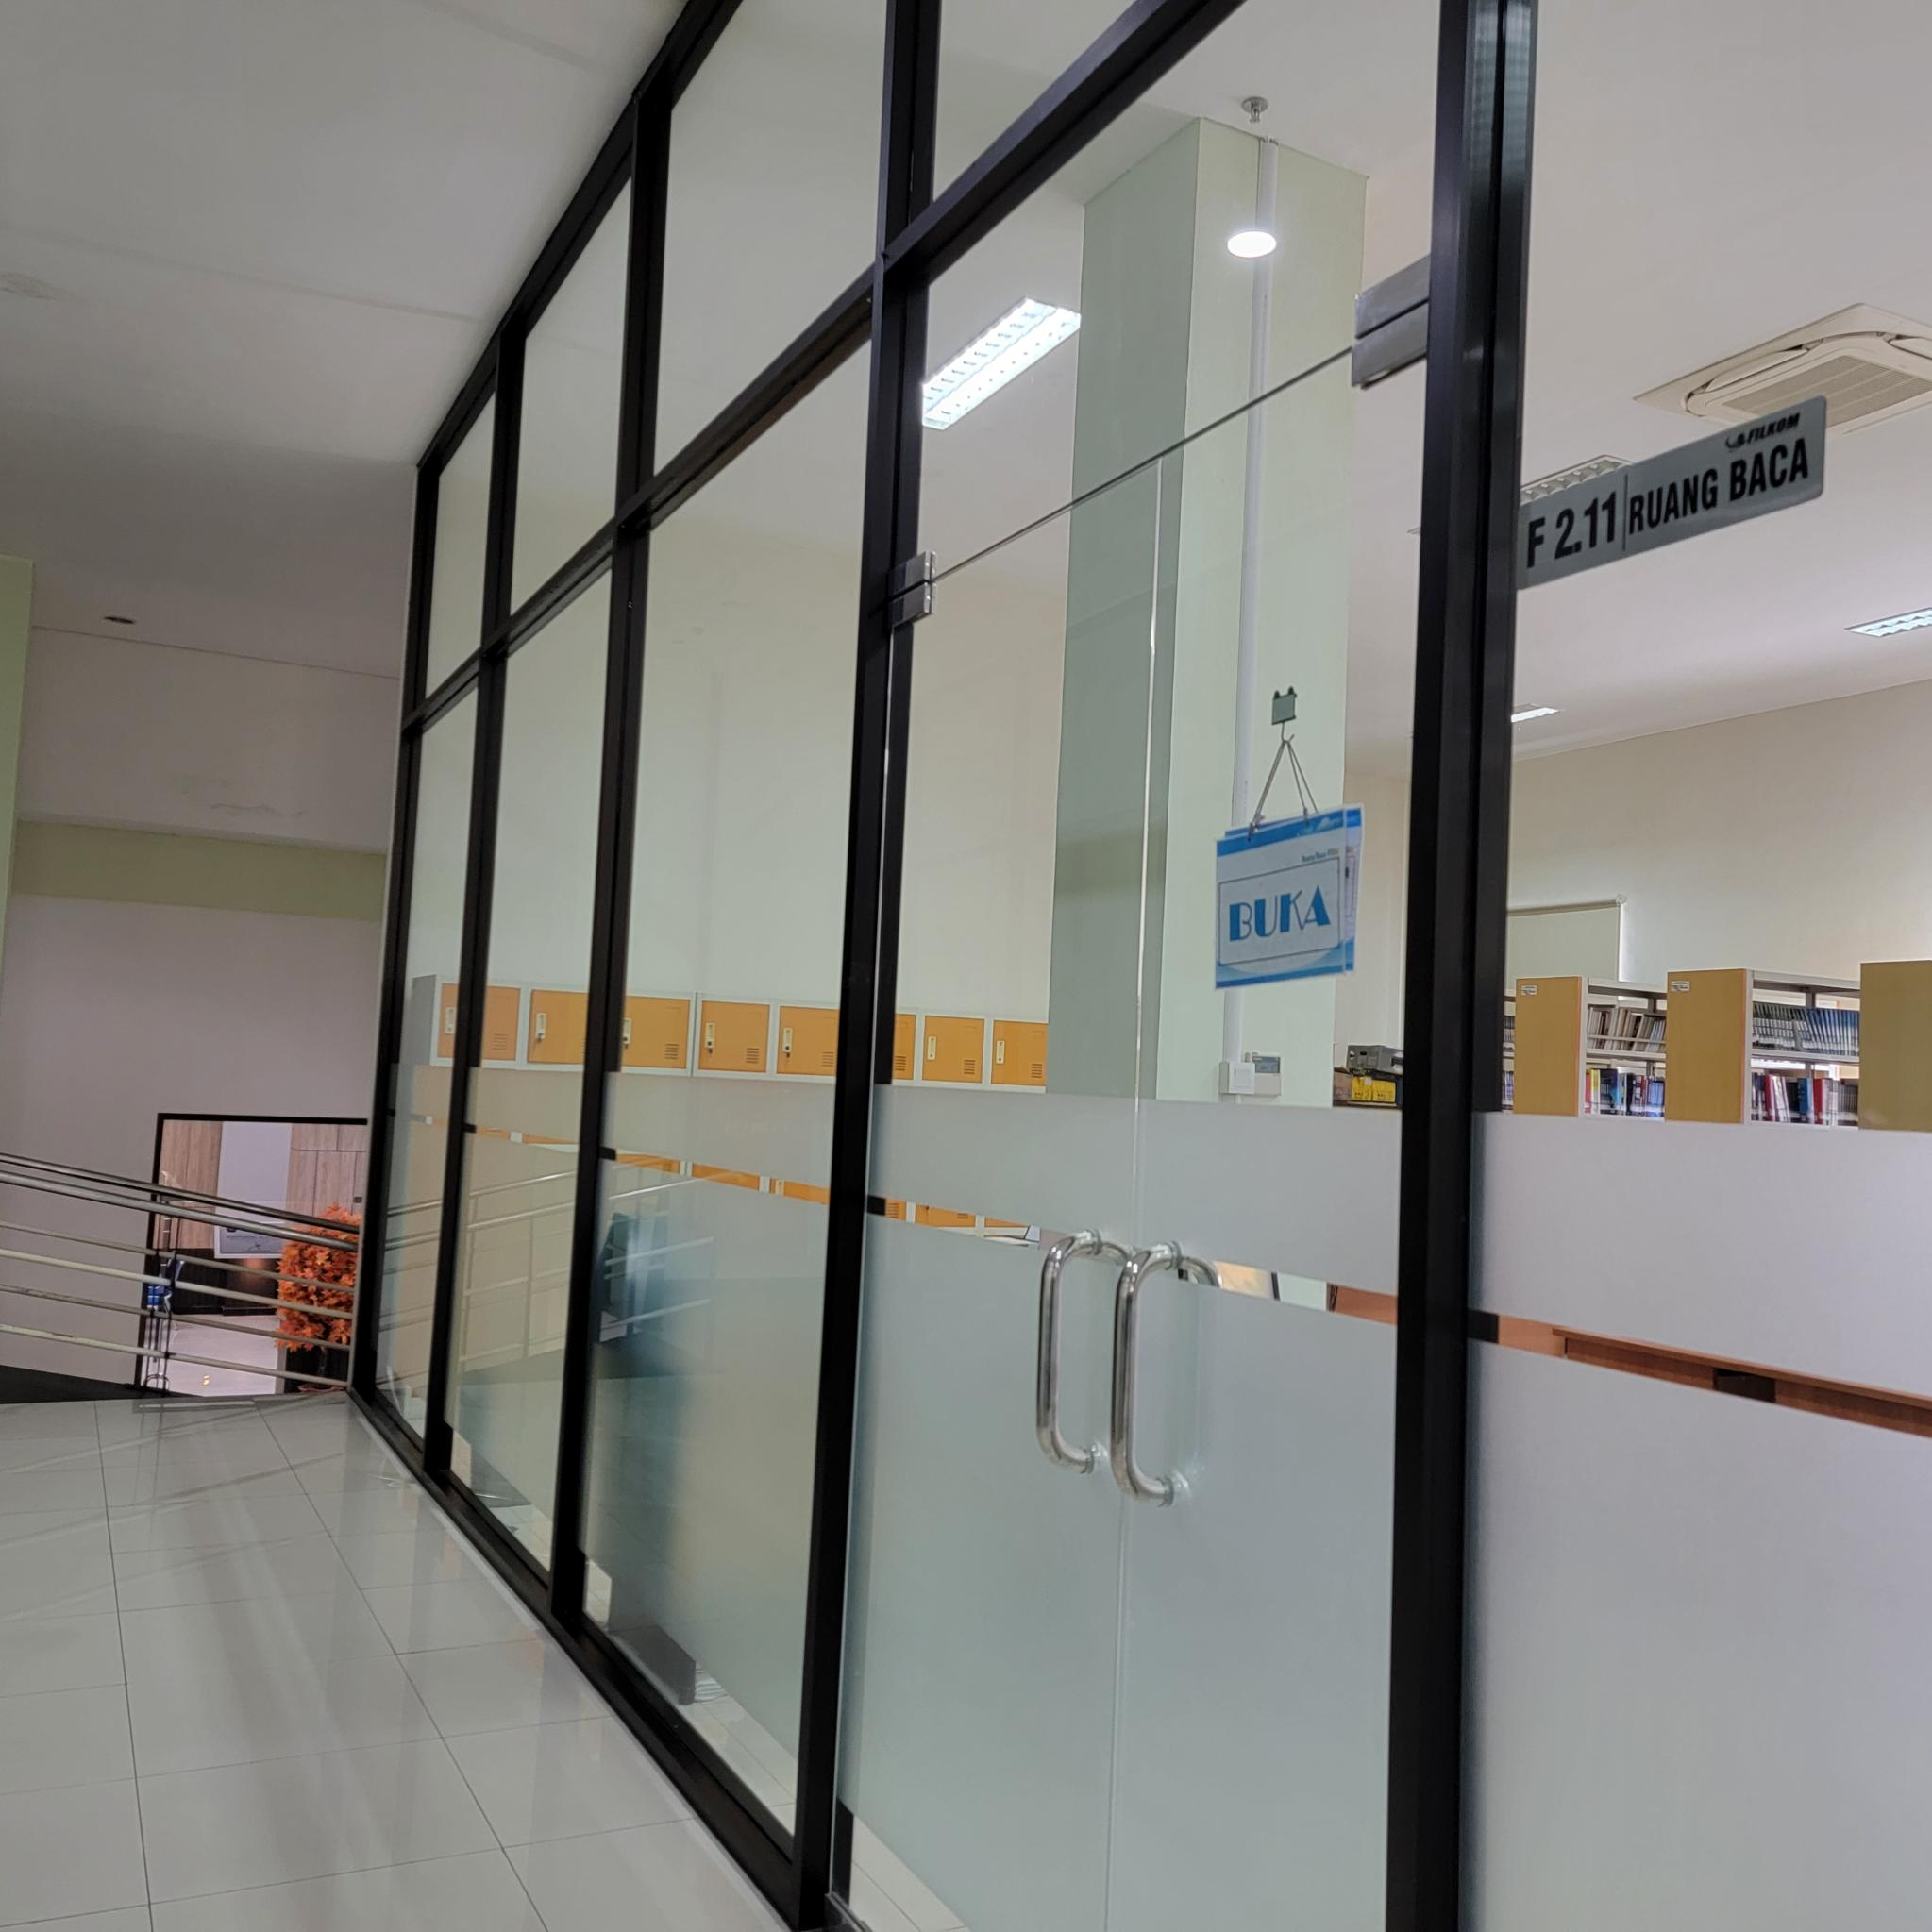plate: (1507, 395, 1829, 594)
